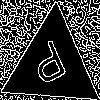P: (27, 39, 73, 95)
